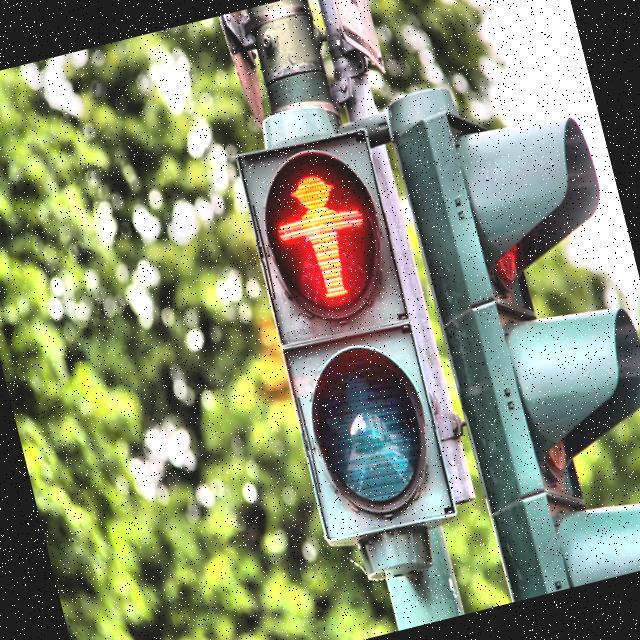red_light: (263, 160, 383, 314)
